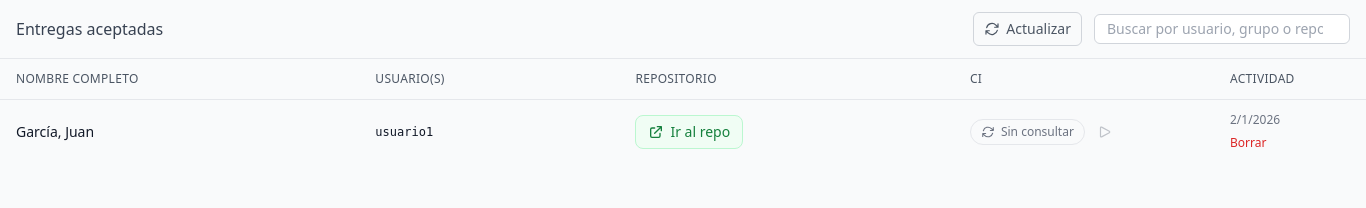
Test: botón Borrar › muestra el error del hook si el borrado falla
Click the button "Borrar" at coordinates (1248, 143), box [1230,135,1266,151]
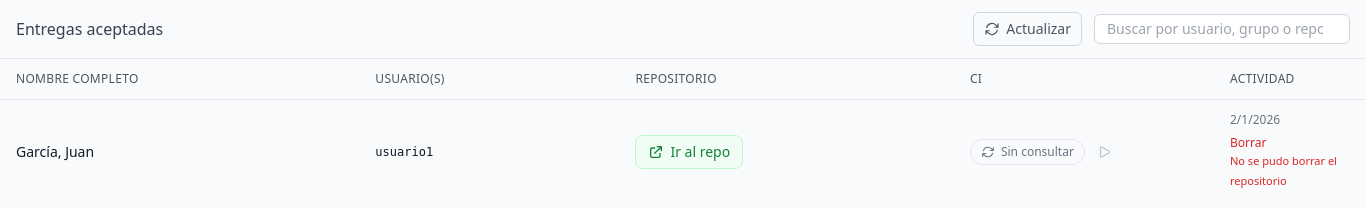
Expected: the text "No se pudo borrar el repositorio" is shown, [1230,151,1350,191]
